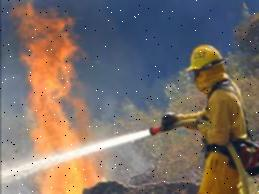fire: (13, 2, 108, 194)
